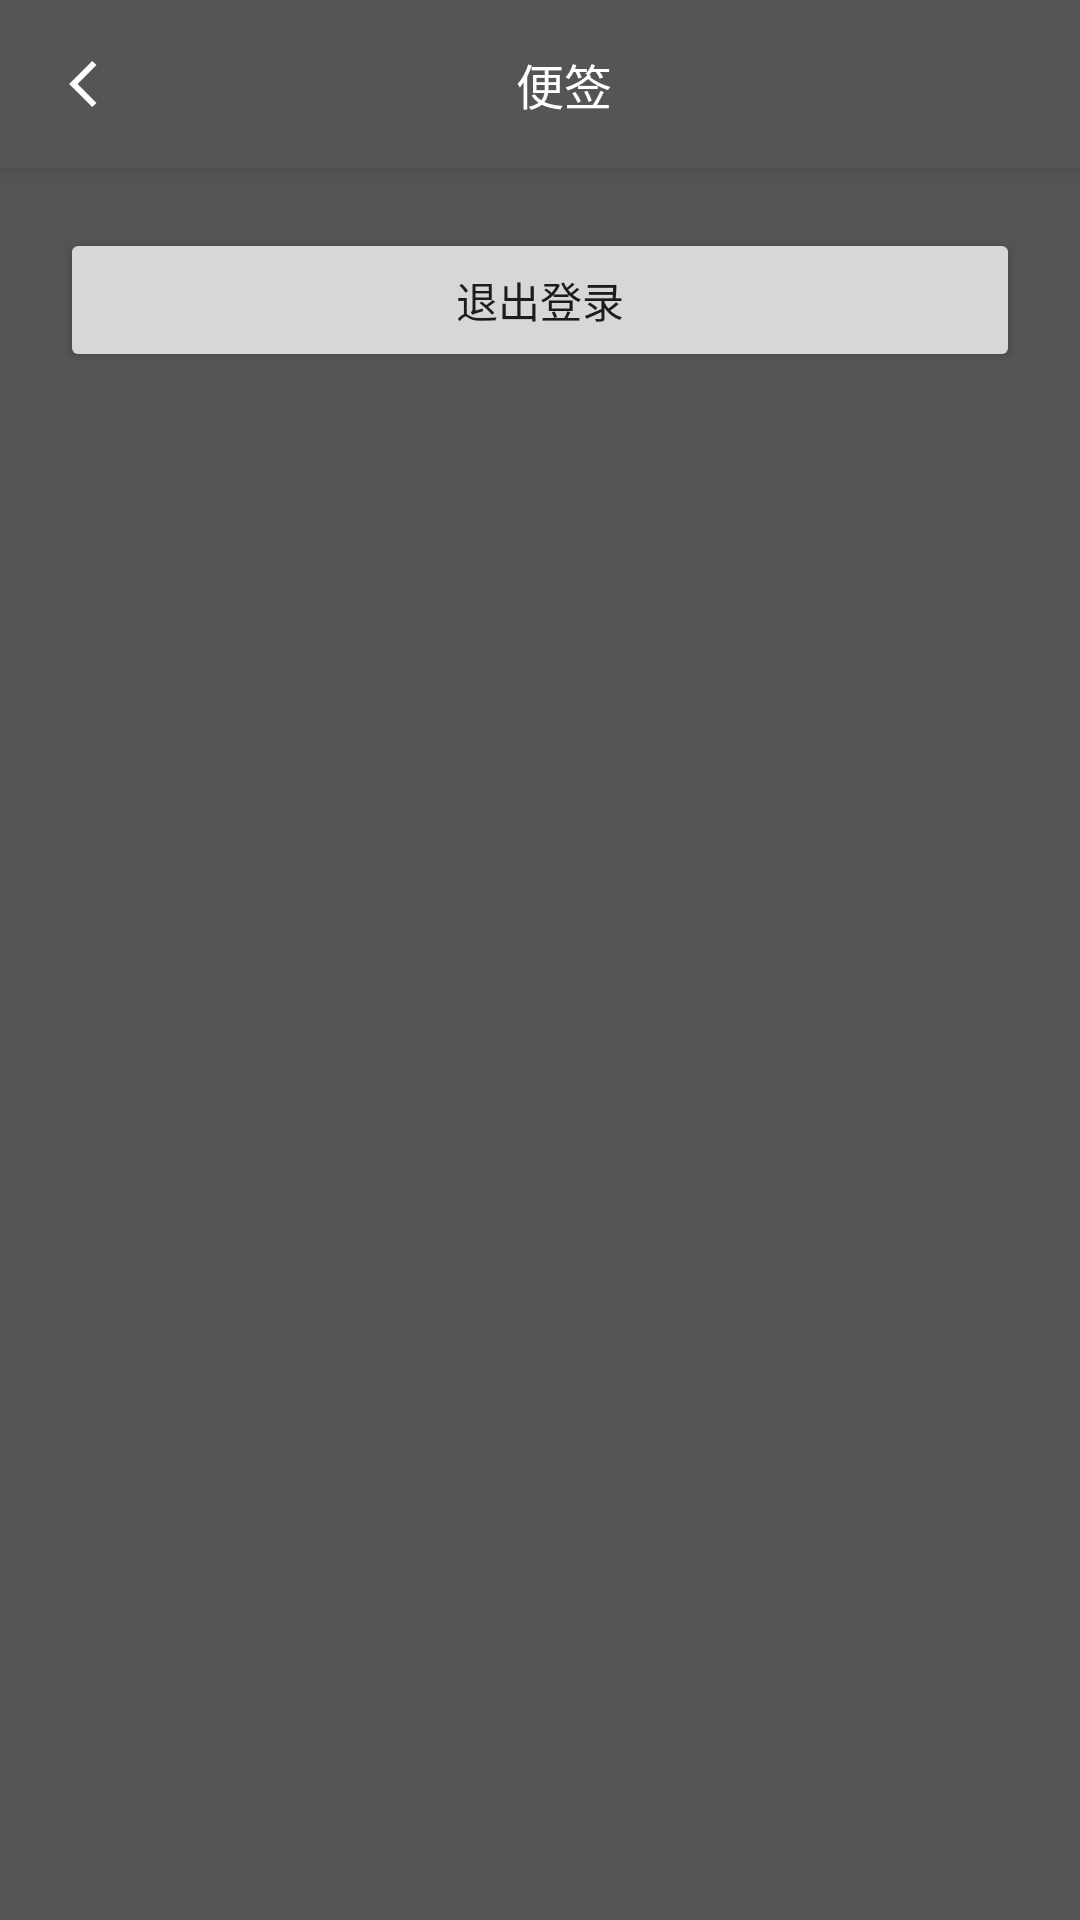

Named icons in this screenshot (1080×1920) and their centers, (x,y):
arrow left: (82,84)
